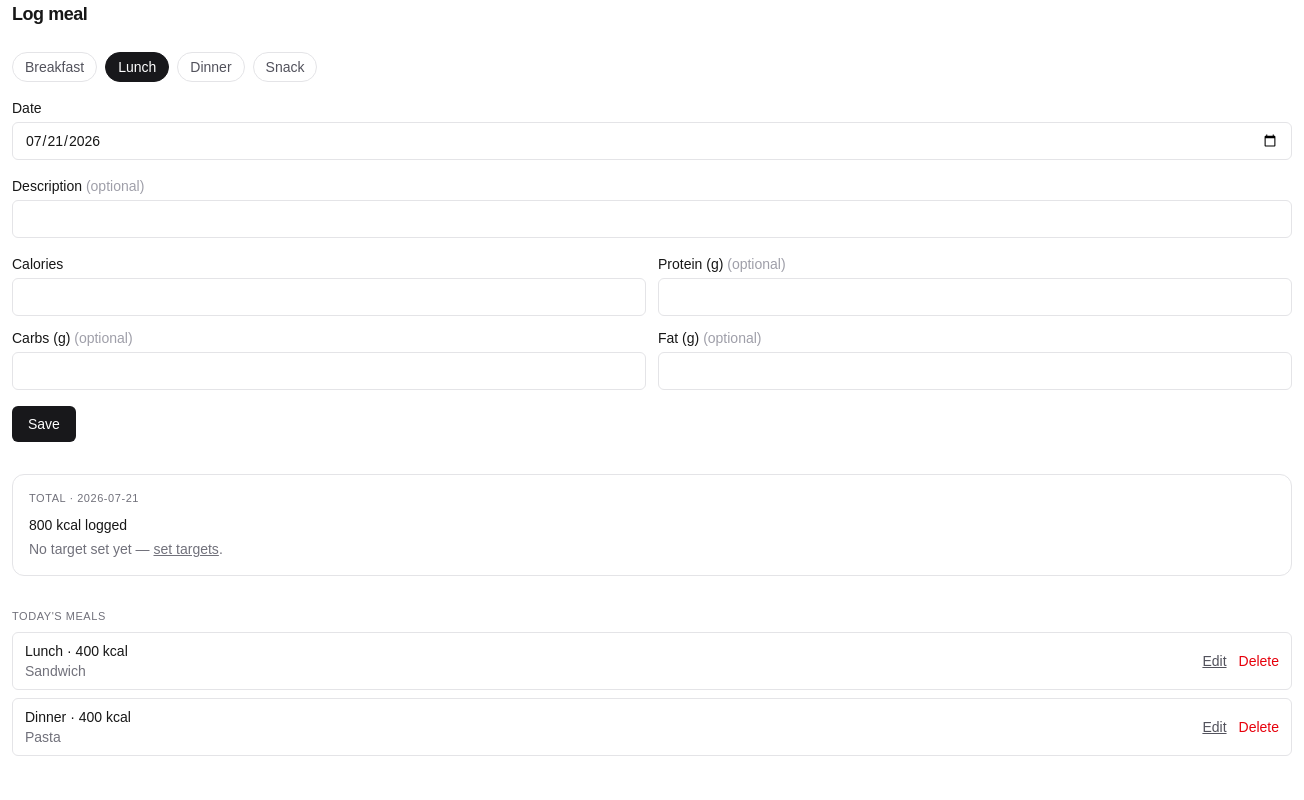
Scenario: LogMealPanel › AC-M33(a): cancelling an edit and opening Edit on a different entry re-syncs the selector
Check: the text "Sandwich" is shown, box [25, 663, 86, 679]
Step 1. Click the button "Edit" in the row of "Sandwich" → (1214, 661), box [1202, 651, 1226, 671]
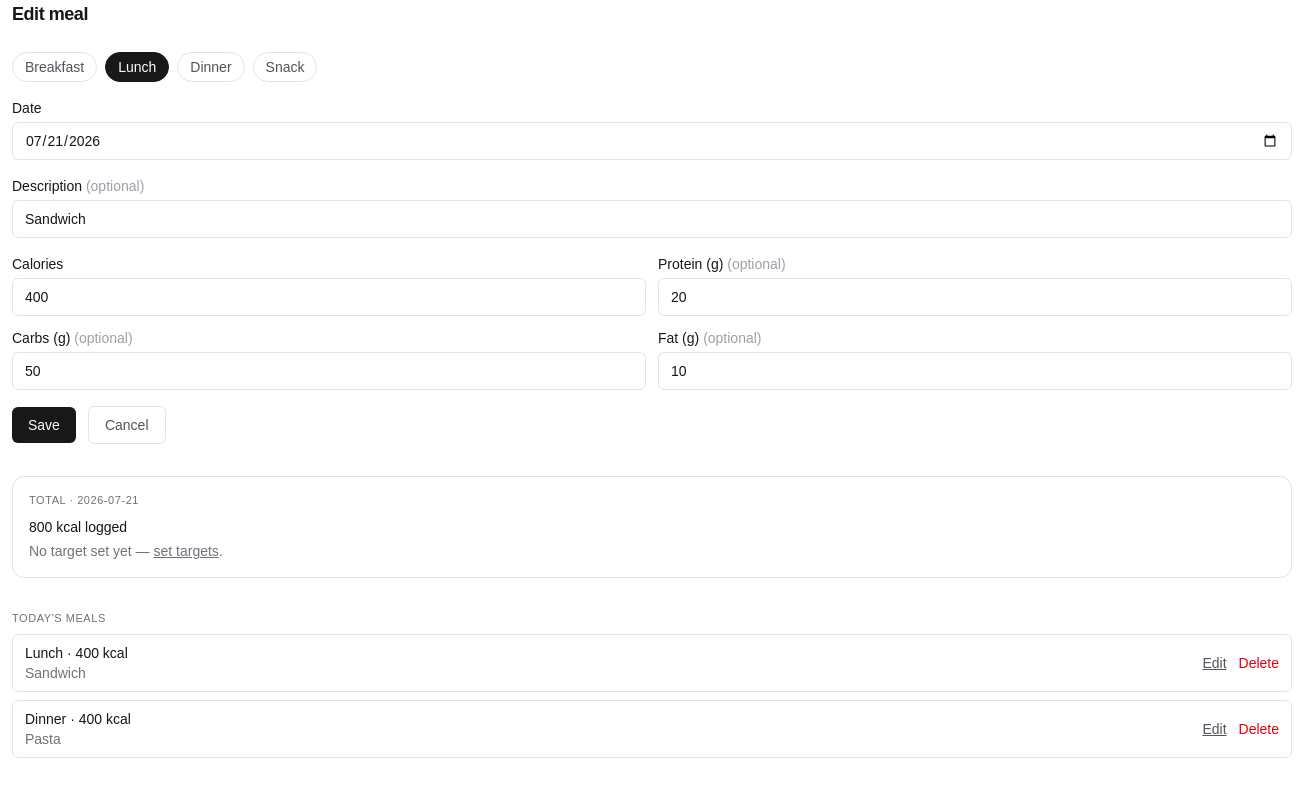
Check: the radio button labelled "Lunch" is checked, box [105, 52, 169, 82]
Check: the heading "Edit meal" is shown, box [12, 4, 88, 24]
Step 2. Click the button "Cancel" → (127, 425), box [88, 406, 166, 444]
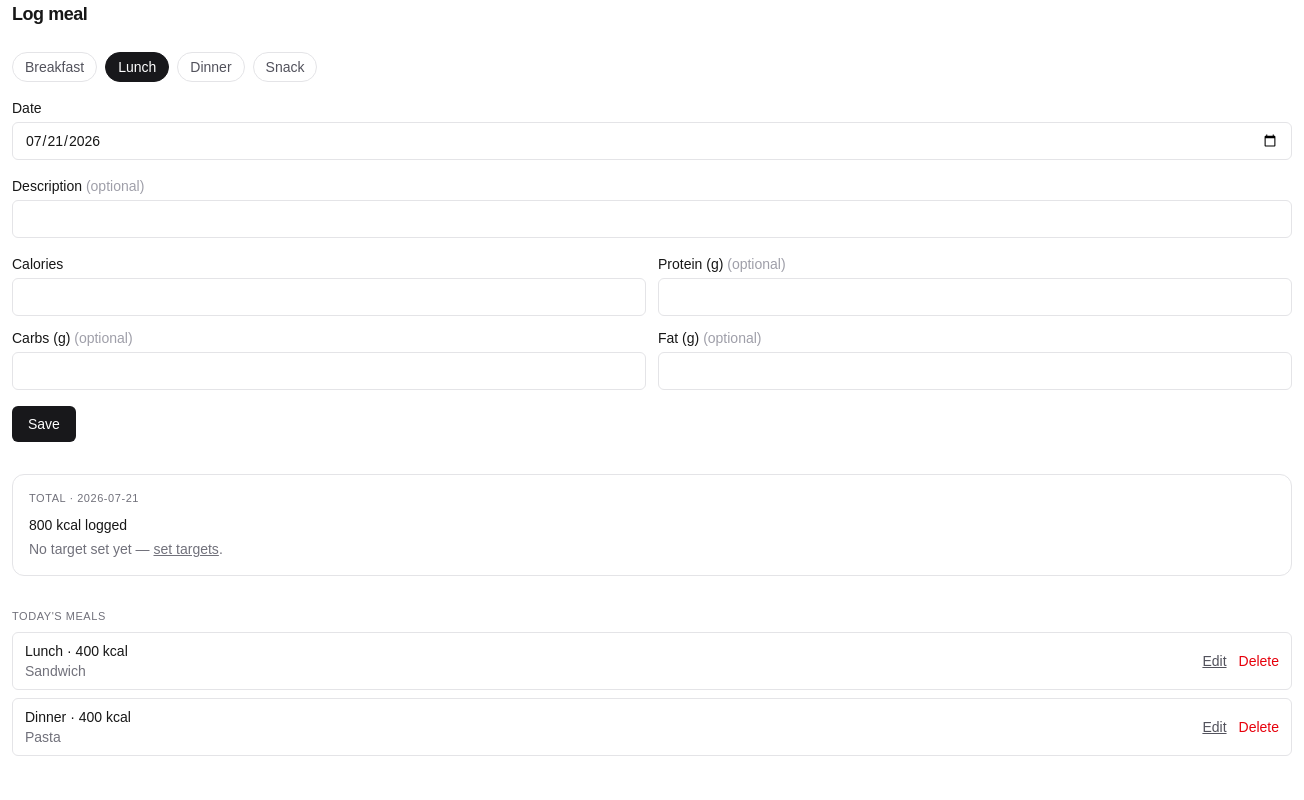
Check: the heading "Edit meal" is gone
Step 3. Click the button "Edit" in the row of "Pasta" → (1214, 727), box [1202, 717, 1226, 737]
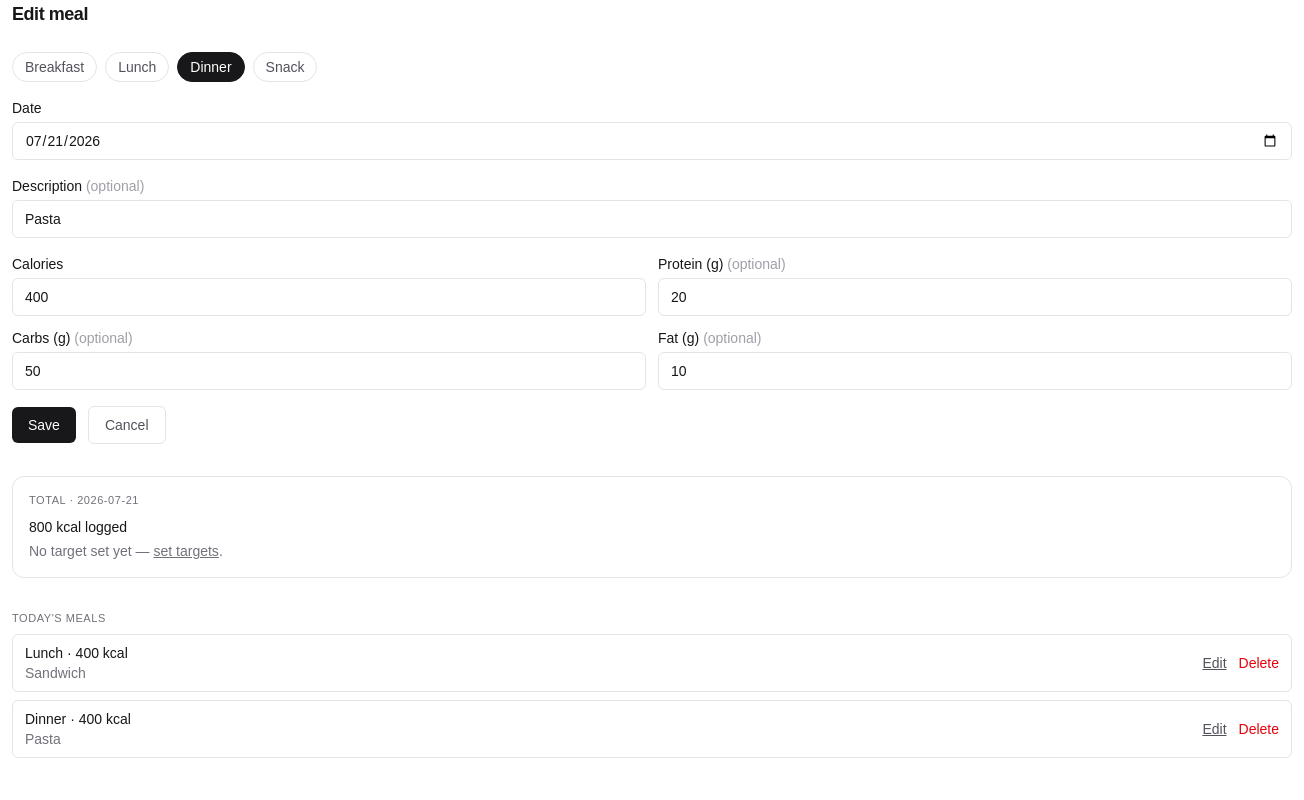
Check: the heading "Edit meal" is shown, box [12, 4, 88, 24]
Check: the radio button labelled "Dinner" is checked, box [177, 52, 245, 82]
